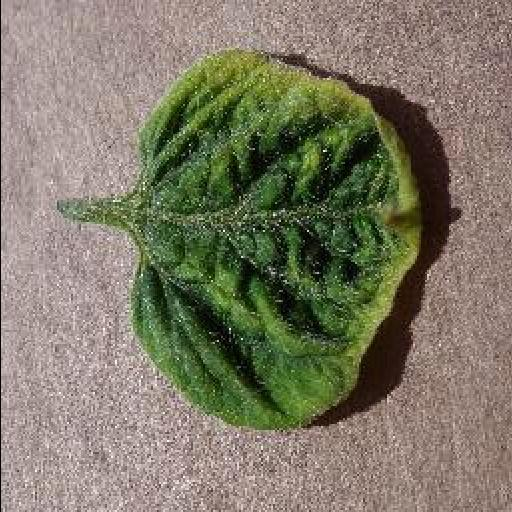disease_tomato: (124, 49, 426, 435)
